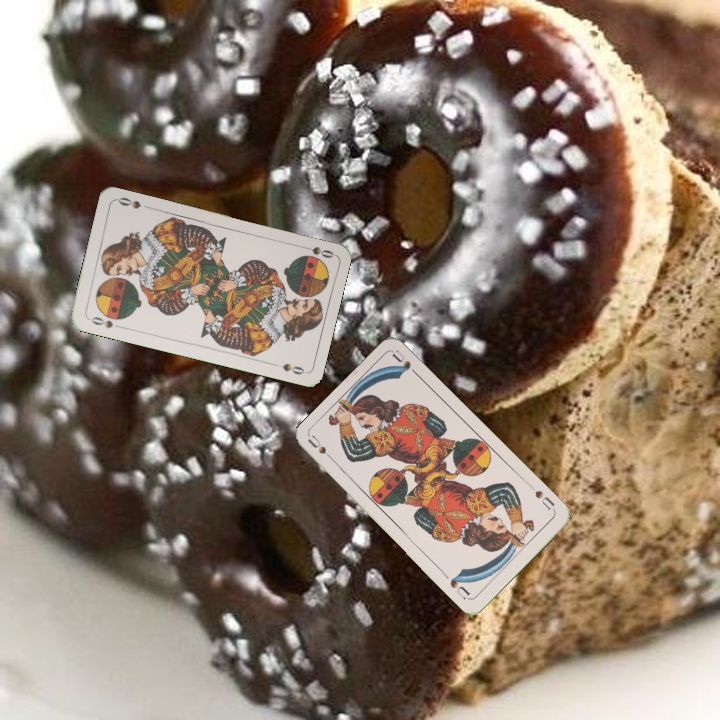SO: (296, 242, 336, 261), (87, 313, 124, 331)
SU: (305, 432, 339, 466), (525, 481, 558, 514)
